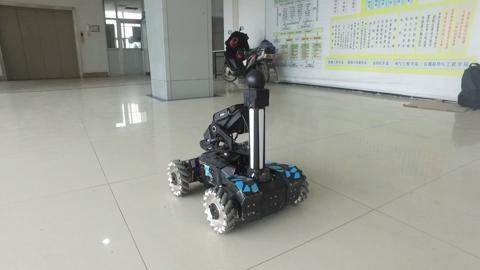bag: (454, 60, 480, 111)
chariot: (142, 64, 318, 239)
